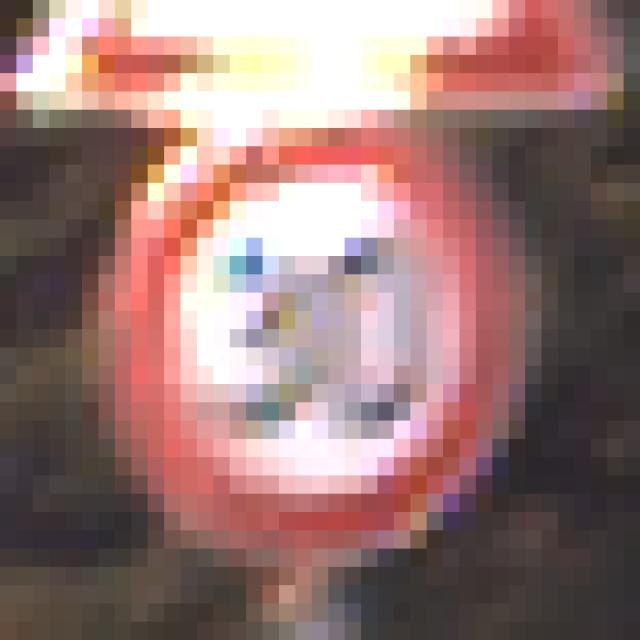Speed Limit -30-: (90, 82, 534, 540)
